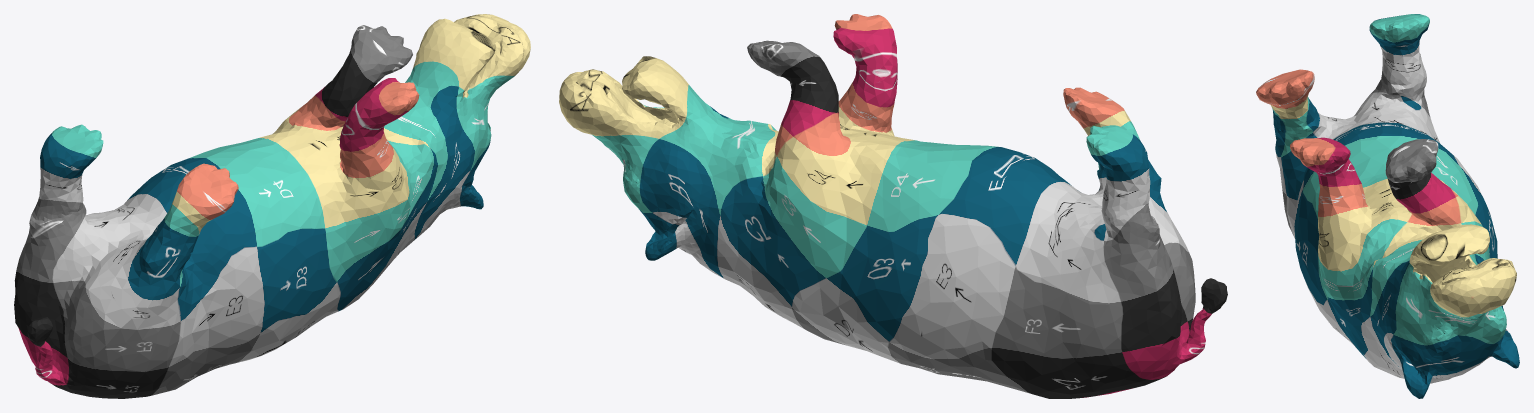
The model's file is horse_07-hippo_01.obj.
The picture shows the model from 3 angles, left to right: view 1: azimuth 30°, elevation 25°; view 2: azimuth 150°, elevation 25°; view 3: azimuth 270°, elevation 25°; orthographic projection. The views are drawn at different scales.
Parts seen in each view (by area): view 1: horse_07-hippo_01_export; view 2: horse_07-hippo_01_export; view 3: horse_07-hippo_01_export.
Part boxes in pixels (x1,y1,x2,y2): horse_07-hippo_01_export: (14, 14, 530, 398); horse_07-hippo_01_export: (559, 14, 1227, 398); horse_07-hippo_01_export: (1256, 14, 1519, 398).
Bounding box in the file's own units: 0.982 × 0.4752 × 0.402.
